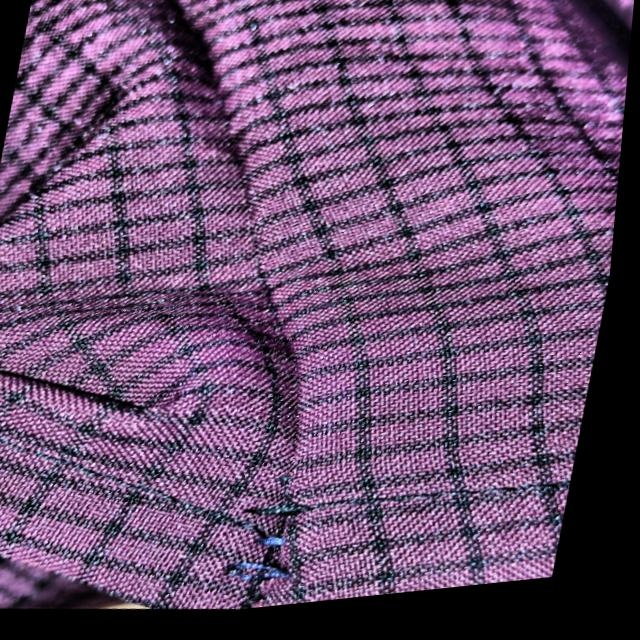Stitch: (184, 460, 356, 617)
